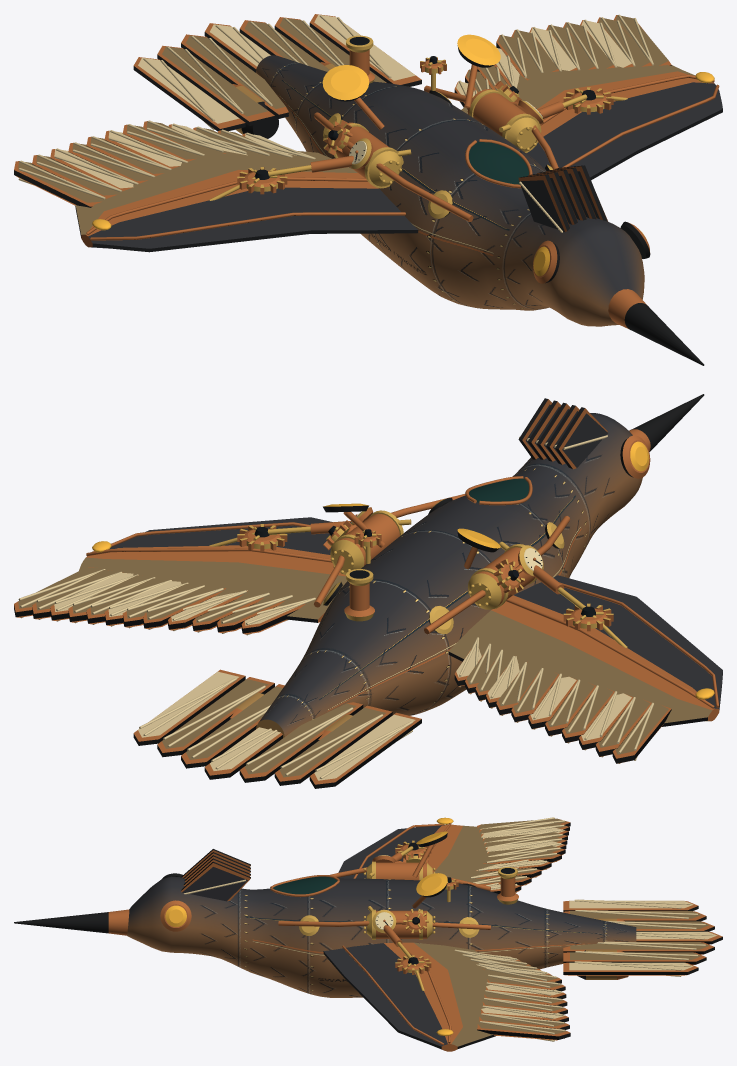
The picture shows the model from 3 angles, top to bottom: view 1: azimuth 30°, elevation 25°; view 2: azimuth 150°, elevation 25°; view 3: azimuth 270°, elevation 25°; orthographic projection. The views are drawn at different scales.
Visible parts, largest first — view 1: kingfisher_hull; view 2: kingfisher_hull; view 3: kingfisher_hull.
Boxes of the visible parts, <box> form: kingfisher_hull: <box>14,14,722,365</box>; kingfisher_hull: <box>14,394,722,788</box>; kingfisher_hull: <box>14,817,722,1051</box>.
Size of the model in its own units: 12.5 by 3.63 by 17.
Materials: 1 (1 with a texture image).
